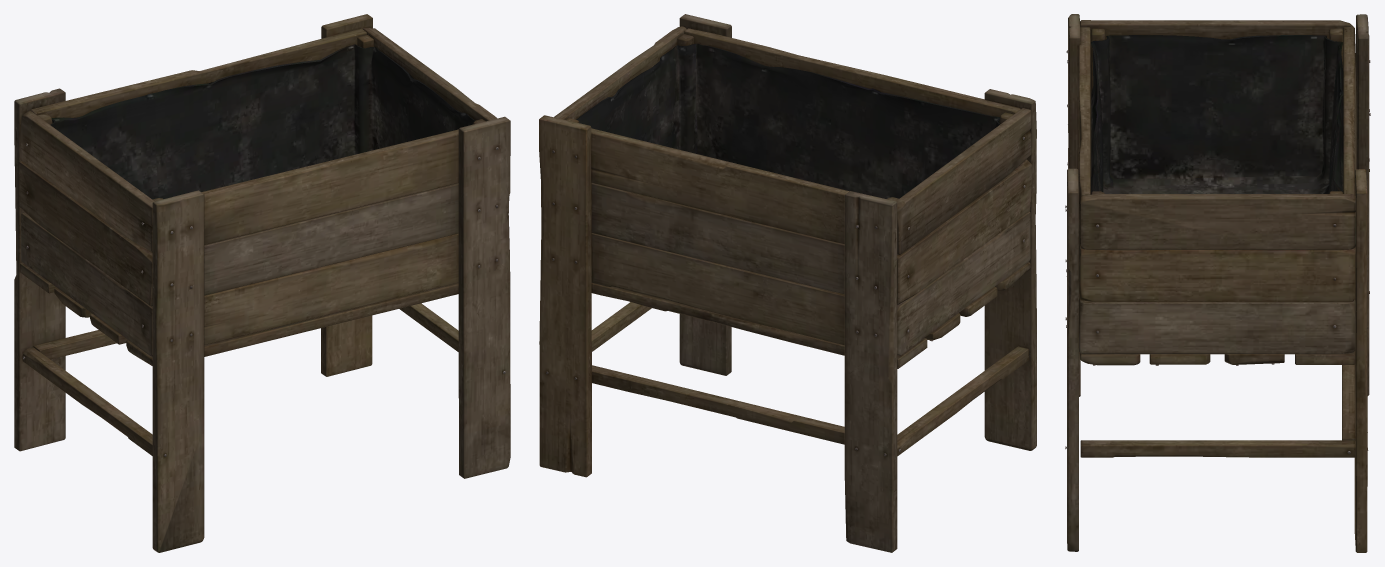
The model's file is planter_box_03.glb.
3 renders of one model, left to right at view 1: azimuth 30°, elevation 25°; view 2: azimuth 150°, elevation 25°; view 3: azimuth 270°, elevation 25°, orthographic. The views are drawn at different scales.
Parts seen in each view (by area): view 1: planter_box_03; view 2: planter_box_03; view 3: planter_box_03.
Boxes of the visible parts, x1,y1,x2,y2 form: planter_box_03: [14, 14, 510, 552]; planter_box_03: [539, 14, 1036, 552]; planter_box_03: [1065, 14, 1370, 552].
Size of the model in its own units: 0.9143 by 0.8551 by 0.6555.
1 material, 1 textured.
